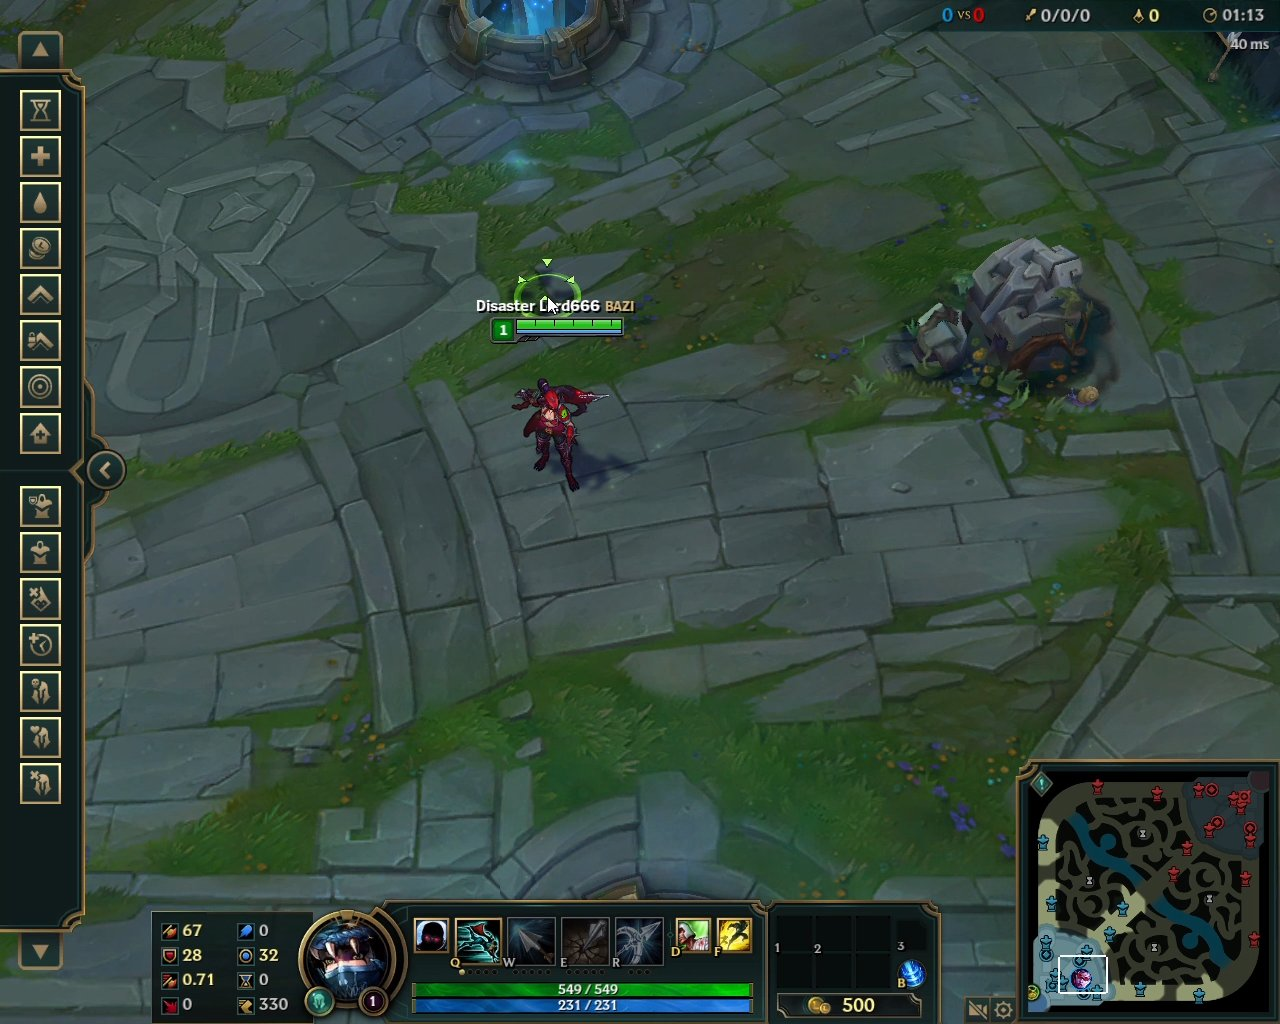Vayne: (502, 373, 612, 501)
